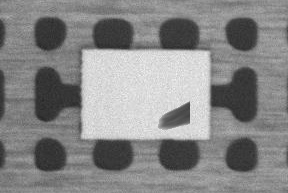DIE_INK: (157, 100, 190, 130)
